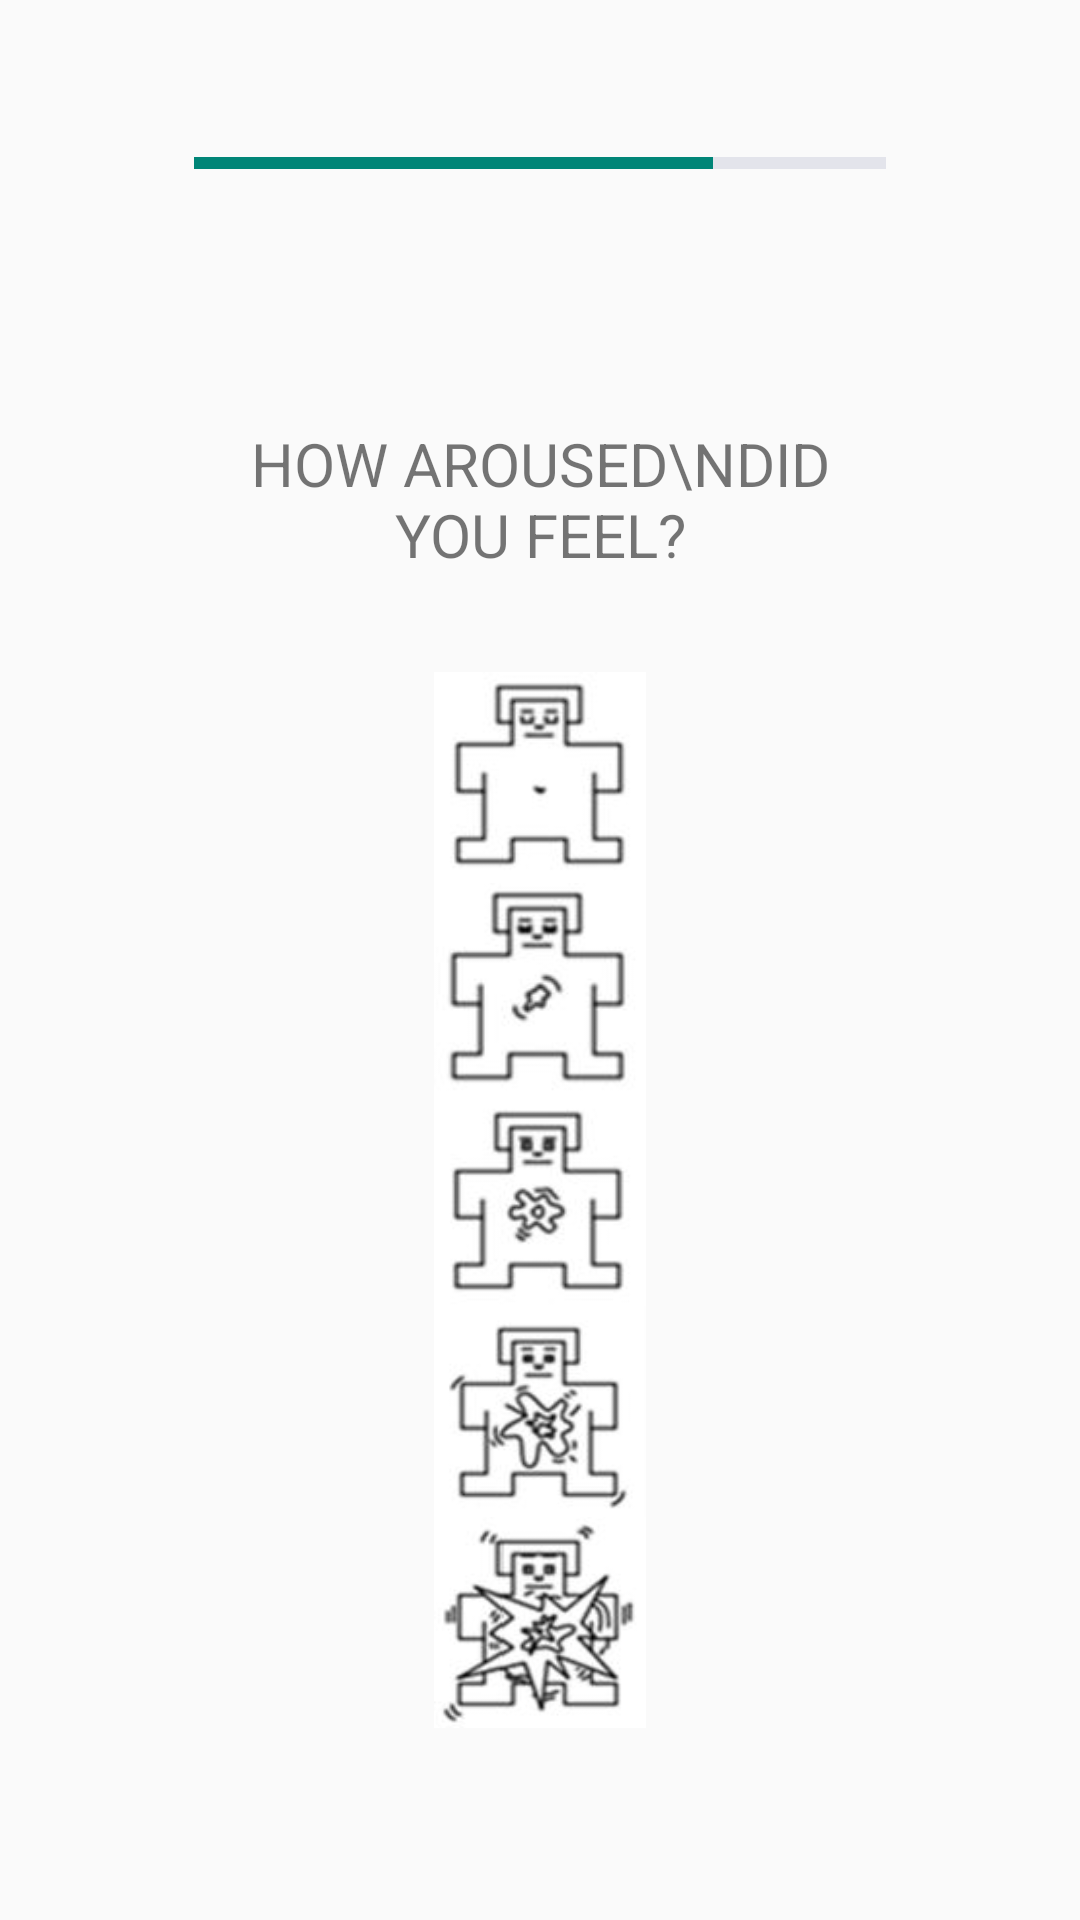

Icons on this 1080px x 1920px Android screen, each with the point to tap as [x,y]:
arousal: [539,774], [537,986], [538,1200], [538,1417], [538,1623]
